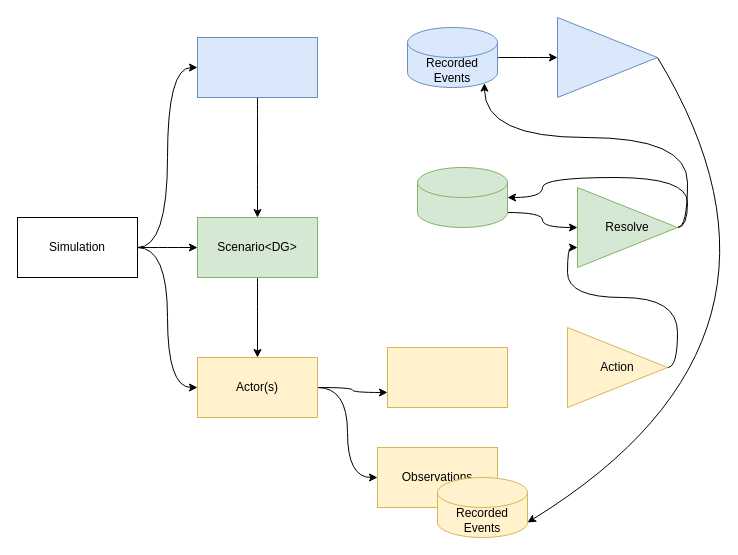
This 738x555 diagram has some shape labels left out. The shapes that lost their labels are listed below. From the top down, each one's centre as x and y in pixels, then its label:
At point (257, 67): "GM".
At point (607, 57): "Partial Observation".
At point (462, 197): "Scenario state".
At point (447, 377): "IdentityComp".
